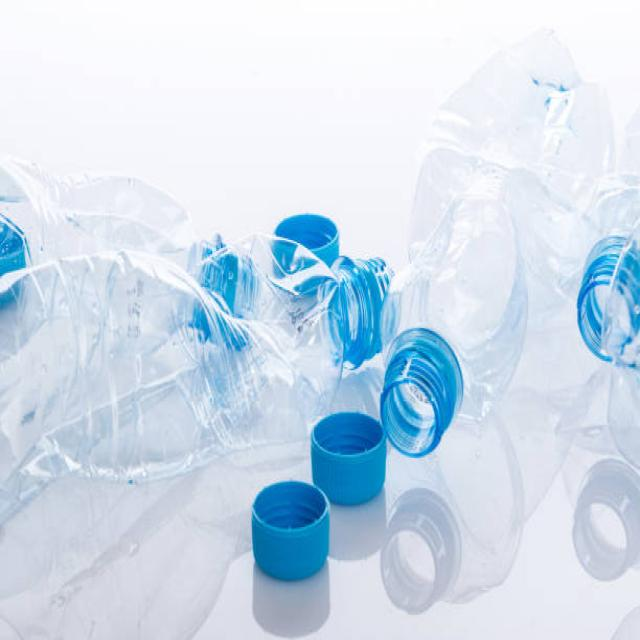plastic: (1, 155, 476, 436)
